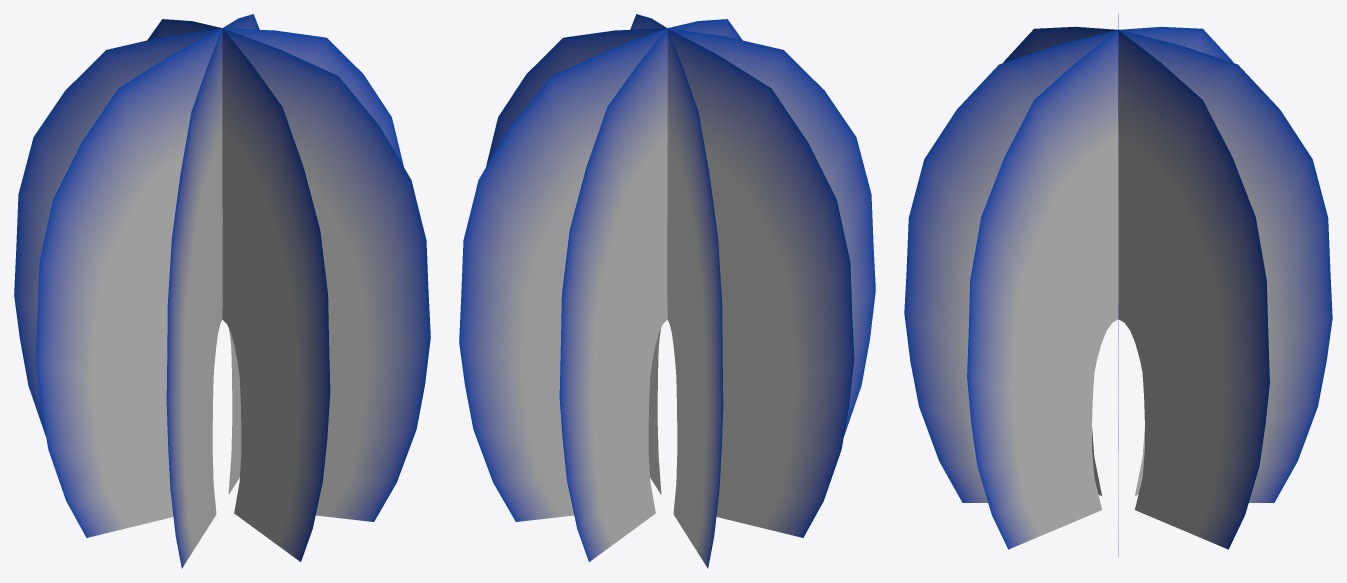
Rendered from Aura001_1.fbx.
3 renders of one model, left to right at view 1: azimuth 30°, elevation 25°; view 2: azimuth 150°, elevation 25°; view 3: azimuth 270°, elevation 25°, orthographic.
Parts seen in each view (by area): view 1: SM_e_Useful_Aura010_01; view 2: SM_e_Useful_Aura010_01; view 3: SM_e_Useful_Aura010_01.
Boxes of the visible parts, x1,y1,x2,y2 form: SM_e_Useful_Aura010_01: [14, 14, 430, 568]; SM_e_Useful_Aura010_01: [459, 14, 875, 568]; SM_e_Useful_Aura010_01: [904, 14, 1332, 556].
Size of the model in its own units: 239 by 292 by 239.
